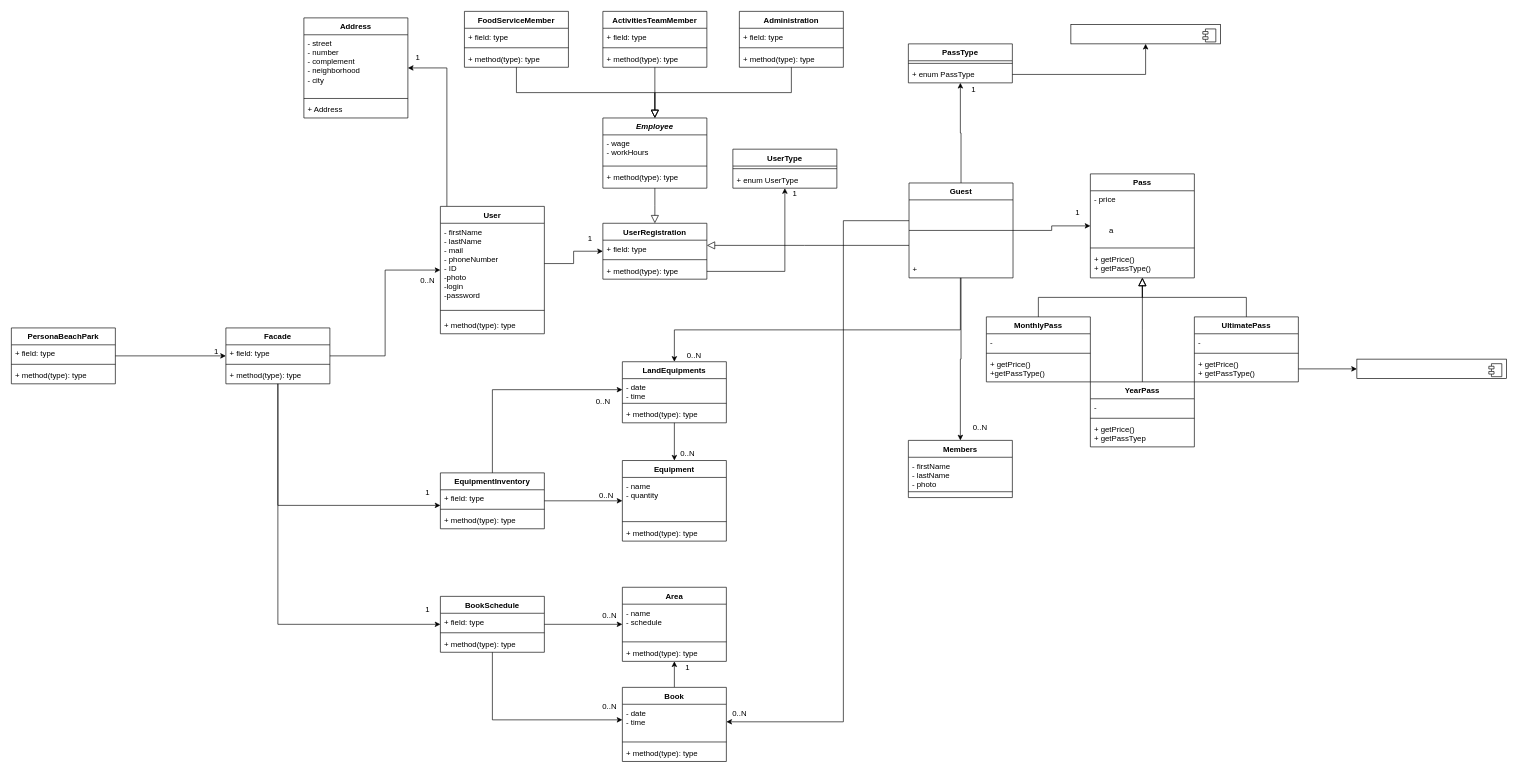
Some shapes in this 1518 by 775 pixel diagram are drawn without their labels. The shapes that lost their labels are listed below. From the top down, each one's centre as x and y in pixels, then its label:
At (1145,34): "MONTHLY, YEAR, ULTIMATE".
At (1431,368): "return PassType.ULTIMATE".
